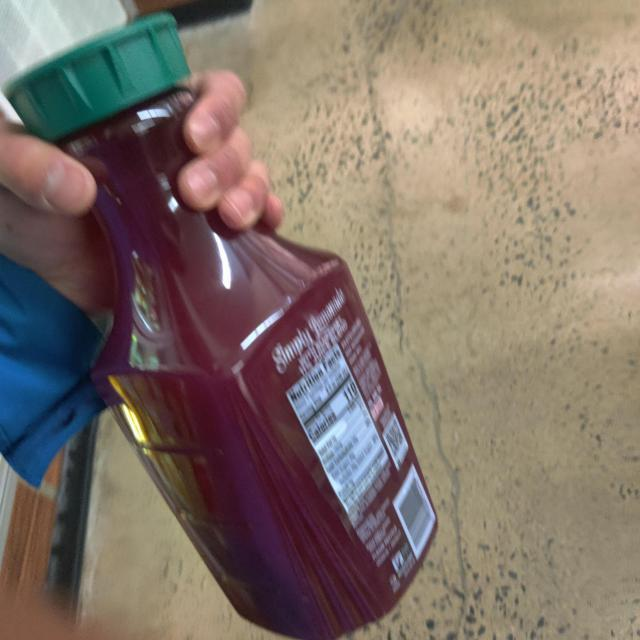Juice: (3, 8, 499, 640)
